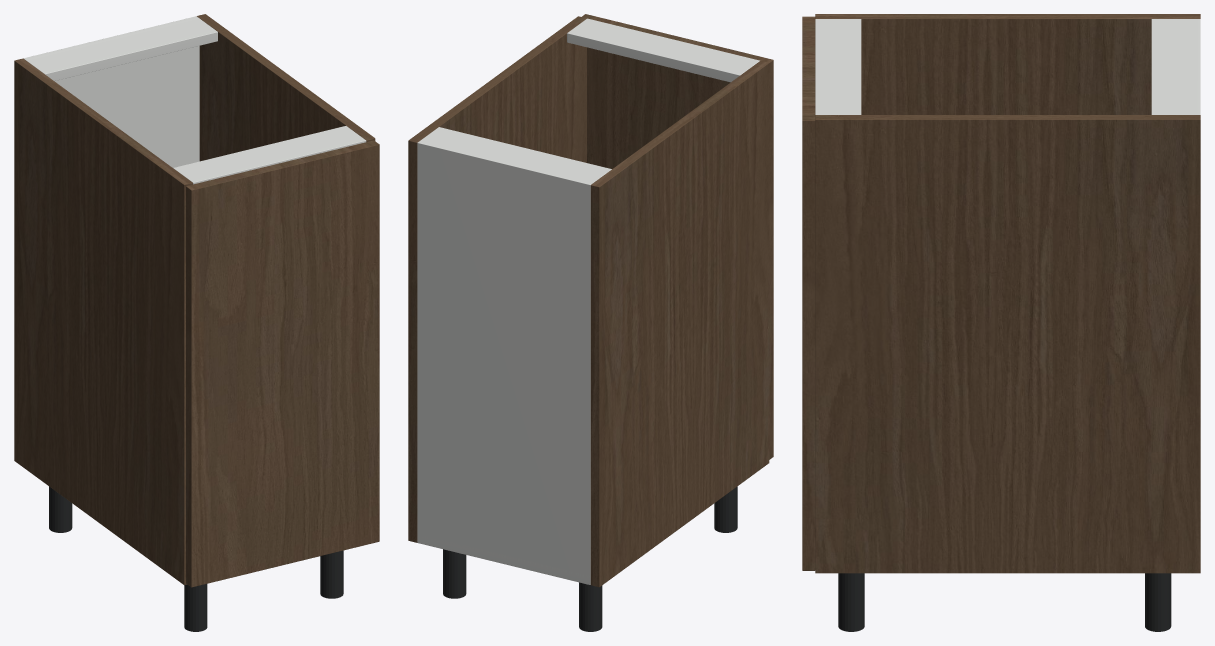
The model's file is oppein-pb-mso-b15fh.glb.
3 renders of one model, left to right at view 1: azimuth 30°, elevation 25°; view 2: azimuth 150°, elevation 25°; view 3: azimuth 270°, elevation 25°, orthographic. The views are drawn at different scales.
Parts seen in each view (by area): view 1: Door, Cabinet side, Cabinet side.001, Cabinet back, Top support rail, Top support rail.001, Adjustable foot.001, Adjustable foot.003, Adjustable foot; view 2: Cabinet side, Cabinet back, Cabinet side.001, Door, Top support rail.001, Top support rail, Cabinet bottom, Adjustable foot, Adjustable foot.002, Adjustable foot.001; view 3: Cabinet side.001, Cabinet side, Door, Top support rail.001, Top support rail, Adjustable foot.002, Adjustable foot.003, Cabinet back.
Part boxes in pixels (box(x1,y1,x2,y2)): Door: box(186, 140, 379, 587); Cabinet side: box(14, 58, 192, 585); Cabinet side.001: box(197, 14, 375, 161); Cabinet back: box(23, 16, 199, 167); Top support rail: box(25, 18, 217, 80); Top support rail.001: box(173, 126, 366, 184); Adjustable foot.001: box(184, 584, 207, 631); Adjustable foot.003: box(320, 550, 343, 598); Adjustable foot: box(49, 486, 72, 532); Cabinet side: box(590, 60, 769, 587); Cabinet back: box(417, 140, 593, 584); Cabinet side.001: box(408, 16, 586, 542); Door: box(582, 14, 773, 459); Top support rail.001: box(567, 18, 759, 82); Top support rail: box(421, 127, 611, 182); Cabinet bottom: box(417, 538, 590, 584); Adjustable foot: box(579, 582, 602, 631); Adjustable foot.002: box(443, 549, 466, 598); Adjustable foot.001: box(714, 486, 737, 532); Cabinet side.001: box(815, 115, 1200, 573); Cabinet side: box(815, 14, 1200, 114); Door: box(802, 16, 815, 570); Top support rail.001: box(815, 19, 861, 114); Top support rail: box(1151, 19, 1193, 114); Adjustable foot.002: box(1145, 573, 1171, 631); Adjustable foot.003: box(838, 573, 864, 631); Cabinet back: box(1193, 19, 1200, 114).
Size of the model in its own units: 0.381 by 0.8763 by 0.6064.
Materials: 3 (1 with a texture image).
